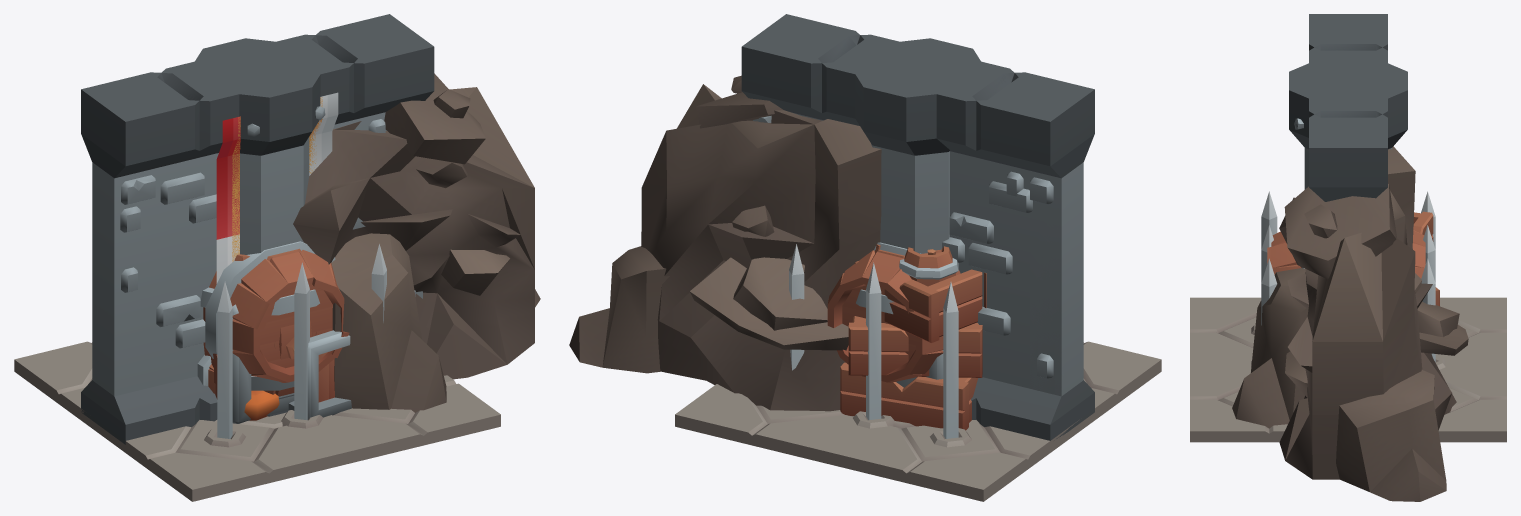
The model's file is welt.glb.
The picture shows the model from 3 angles, left to right: view 1: azimuth 30°, elevation 25°; view 2: azimuth 150°, elevation 25°; view 3: azimuth 270°, elevation 25°; orthographic projection. The views are drawn at different scales.
Visible parts, largest first — view 1: rubble_half, wall, floor_tile_large, wall_arched, pillar, keg, spikes, banner_patternA_red, crates_stacked, barrel_large, box_large, banner_thin_yellow (+1 smaller); view 2: rubble_half, wall, floor_tile_large, crates_stacked, wall_arched, pillar, spikes, keg, floor_tile_big_spikes; view 3: rubble_half, floor_tile_large, wall, wall_arched, pillar, spikes, keg, crates_stacked.
Boxes of the visible parts, box(x1,y1,x2,y2) form: rubble_half: box(293, 73, 540, 412); wall: box(81, 14, 433, 440); floor_tile_large: box(14, 341, 500, 501); wall_arched: box(81, 15, 434, 444); pillar: box(195, 38, 320, 416); keg: box(203, 241, 349, 382); spikes: box(217, 244, 386, 438); banner_patternA_red: box(216, 92, 338, 283); crates_stacked: box(244, 330, 351, 420); barrel_large: box(200, 248, 319, 396); box_large: box(232, 304, 294, 423); banner_thin_yellow: box(232, 97, 322, 261); rubble_half: box(569, 75, 881, 411); wall: box(741, 14, 1094, 440); floor_tile_large: box(675, 341, 1161, 501); crates_stacked: box(840, 246, 986, 430); wall_arched: box(742, 14, 1093, 437); pillar: box(855, 38, 980, 253); spikes: box(789, 244, 958, 438); keg: box(827, 242, 943, 382); floor_tile_big_spikes: box(853, 411, 971, 447); rubble_half: box(1232, 146, 1468, 501); floor_tile_large: box(1190, 297, 1506, 442); wall: box(1309, 14, 1387, 201); wall_arched: box(1309, 14, 1387, 197); pillar: box(1289, 63, 1407, 189); spikes: box(1261, 191, 1435, 362); keg: box(1267, 230, 1425, 278); crates_stacked: box(1413, 211, 1439, 306).
Size of the model in its own units: 6 by 4.38 by 4.
1 material, 1 textured.
